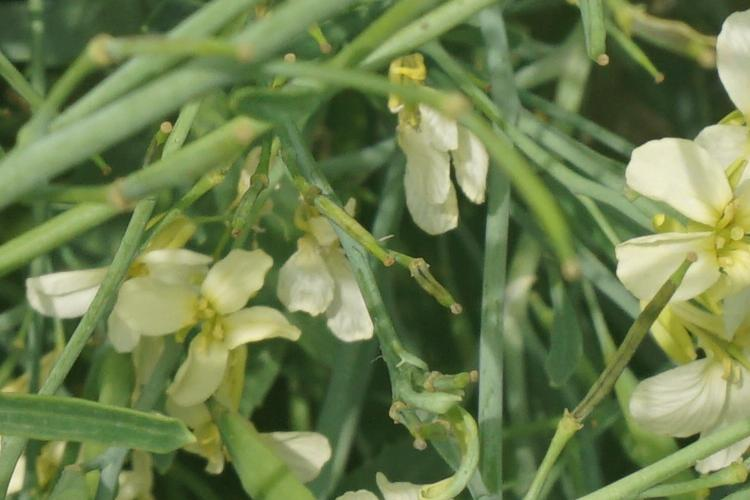pod: (449, 92, 596, 287), (550, 245, 701, 420), (296, 197, 410, 281), (119, 112, 178, 266), (81, 25, 262, 74), (244, 11, 283, 197), (390, 258, 482, 320), (566, 9, 636, 80), (217, 159, 278, 240), (612, 31, 674, 96), (293, 20, 347, 57)
white: (125, 230, 281, 392), (630, 122, 744, 307), (387, 83, 514, 236), (268, 200, 381, 341), (658, 305, 750, 460)
